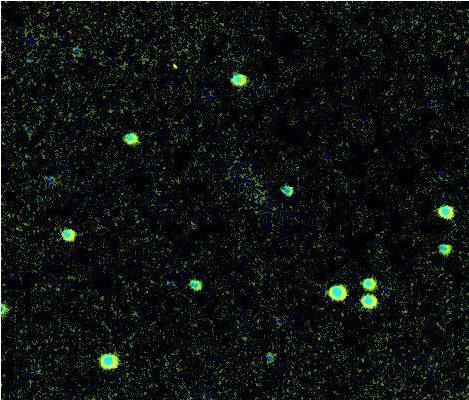star: (161, 50, 191, 80)
